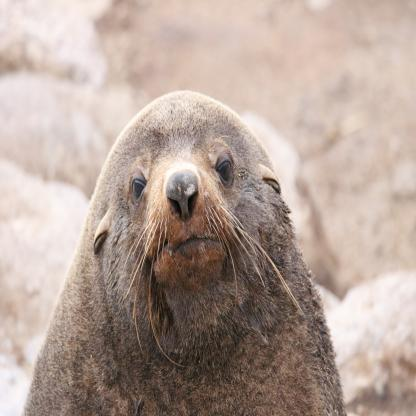face: (121, 146, 248, 284)
